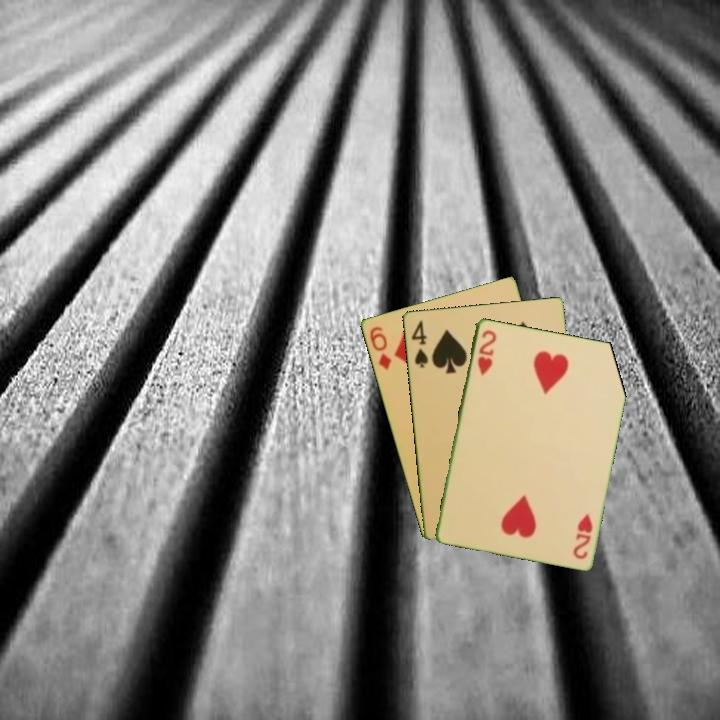2h: (569, 510, 595, 562), (474, 326, 499, 378)
4s: (407, 316, 431, 370)
6d: (366, 322, 394, 373)
